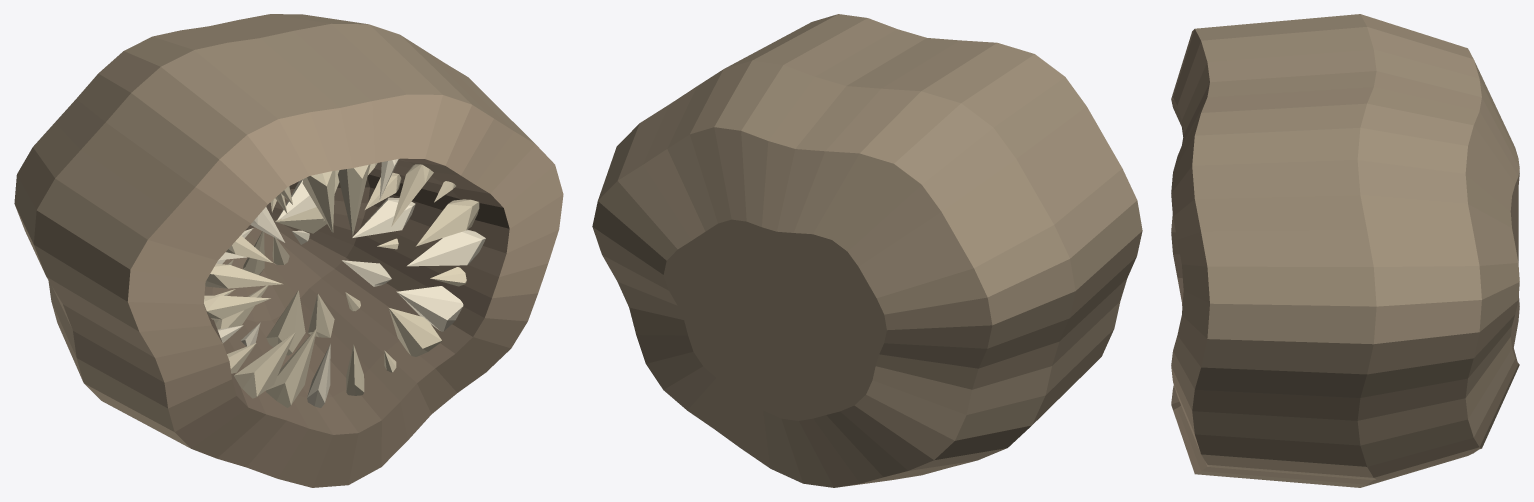
3 views of the same model, side by side, from view 1: azimuth 30°, elevation 25°; view 2: azimuth 150°, elevation 25°; view 3: azimuth 270°, elevation 25° (orthographic). The views are drawn at different scales.
Parts seen in each view (by area): view 1: thick_closed_back_limestone_vug, mixed_inward_scalenohedral_calcite_crystals.001, mixed_inward_scalenohedral_calcite_crystals; view 2: thick_closed_back_limestone_vug; view 3: thick_closed_back_limestone_vug.
Part boxes in pixels (x1=…): thick_closed_back_limestone_vug: x1=14, y1=14, x2=563, y2=487; mixed_inward_scalenohedral_calcite_crystals.001: x1=204, y1=163, x2=479, y2=407; mixed_inward_scalenohedral_calcite_crystals: x1=216, y1=159, x2=485, y2=407; thick_closed_back_limestone_vug: x1=592, y1=14, x2=1142, y2=487; thick_closed_back_limestone_vug: x1=1171, y1=14, x2=1519, y2=487.
Size of the model in its own units: 0.4672 by 0.3882 by 0.2941.
